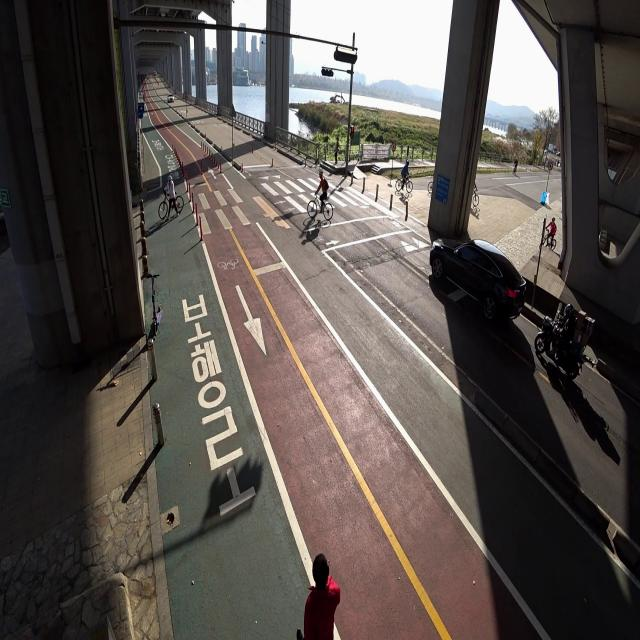Car: (426, 233, 529, 326), (163, 87, 176, 110)
Motorcycle: (534, 300, 596, 382)
